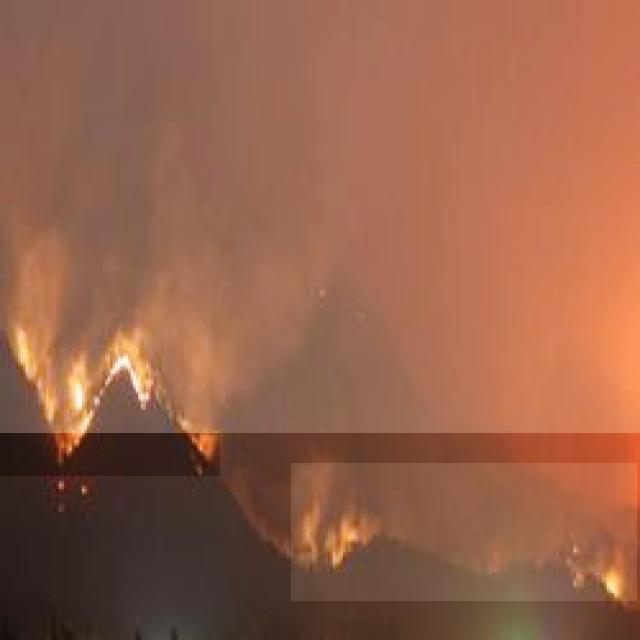Fire: (291, 464, 637, 602), (0, 309, 220, 476)
Smoke: (0, 0, 640, 433)
